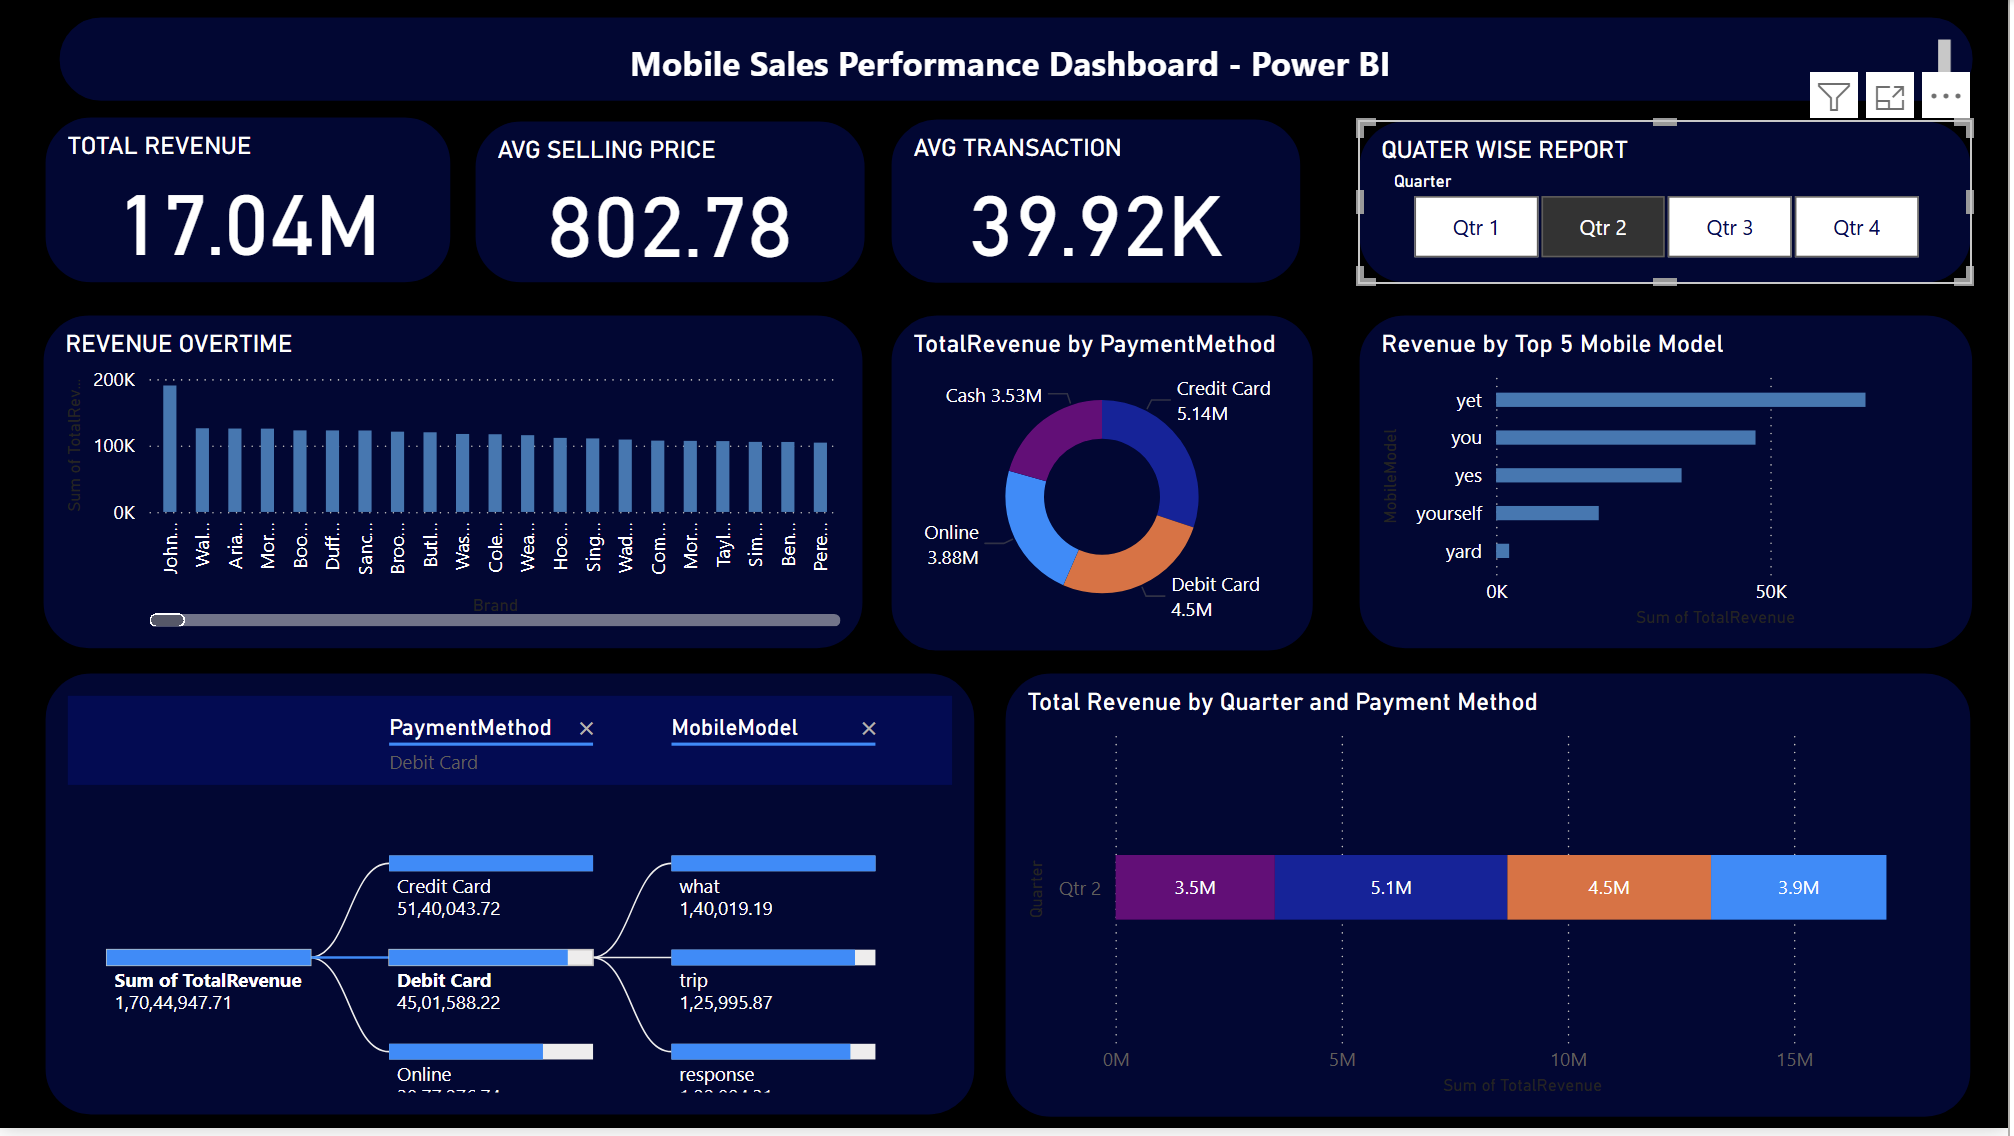

The page's visual inventory and layout, read from the dashboard file:
{"tool":"powerbi","page":{"name":"Page 1","canvas":[1280,720],"ordinal":0},"visuals":[{"type":"columnChart","title":"REVENUE OVERTIME","fields":{"Category":["mobile_sales.Brand"],"Y":["mobile_sales.TotalRevenue"]},"box":[28,201.4,524,214.2],"z":0},{"type":"card","title":"TOTAL REVENUE","fields":{"Values":["mobile_sales.TotalRevenue"]},"box":[28,75.2,260.1,107.1],"z":1000},{"type":"donutChart","title":"TotalRevenue by PaymentMethod","fields":{"Category":["mobile_sales.PaymentMethod"],"Y":["mobile_sales.TotalRevenue"]},"box":[567.3,201.4,270.3,215.5],"z":2000},{"type":"clusteredBarChart","title":"Revenue by Top 5 Mobile Model","fields":{"Category":["mobile_sales.MobileModel"],"Y":["mobile_sales.TotalRevenue"]},"box":[865.7,201.4,392.7,214.2],"z":3000},{"type":"decompositionTreeVisual","fields":{"Analyze":["mobile_sales.TotalRevenue"],"ExplainBy":["mobile_sales.PaymentMethod","mobile_sales.MobileModel"]},"box":[28,429.6,594.1,283],"z":4000},{"type":"barChart","title":"Total Revenue by Quarter and Payment Method","fields":{"Category":["mobile_sales.Date.Variation.Date Hierarchy.Quarter"],"Series":["mobile_sales.PaymentMethod"],"Y":["mobile_sales.TotalRevenue"]},"box":[640,429.6,617.1,284.3],"z":5000},{"type":"card","title":"AVG SELLING PRICE","fields":{"Values":["mobile_sales.ag_selling_price"]},"box":[302.2,77.8,249.9,104.5],"z":6000},{"type":"card","title":"AVG TRANSACTION ","fields":{"Values":["mobile_sales.1.avg_transaction"]},"box":[567.3,76.5,262.6,105.8],"z":7000},{"type":"slicer","title":"QUATER WISE REPORT","fields":{"Values":["mobile_sales.Date.Variation.Date Hierarchy.Quarter"]},"box":[865.7,77.8,391.4,104.5],"z":8000},{"type":"textbox","box":[37,11.5,1221.4,54.8],"z":8001}]}

Visuals, with their boxes on the page's 1280x720 design canvas (x1, y1, x2, y2). These are canvas units, not pixel positions in the 2014x1136 screenshot, which may show the page scaled, cropped or inside an application window:
"REVENUE OVERTIME" columnChart: detection(28, 201, 552, 416)
"TOTAL REVENUE" card: detection(28, 75, 288, 182)
"TotalRevenue by PaymentMethod" donutChart: detection(567, 201, 838, 417)
"Revenue by Top 5 Mobile Model" clusteredBarChart: detection(866, 201, 1258, 416)
decompositionTreeVisual - mobile_sales.TotalRevenue x mobile_sales.PaymentMethod: detection(28, 430, 622, 713)
"Total Revenue by Quarter and Payment Method" barChart: detection(640, 430, 1257, 714)
"AVG SELLING PRICE" card: detection(302, 78, 552, 182)
"AVG TRANSACTION " card: detection(567, 76, 830, 182)
"QUATER WISE REPORT" slicer: detection(866, 78, 1257, 182)
textbox: detection(37, 12, 1258, 66)
